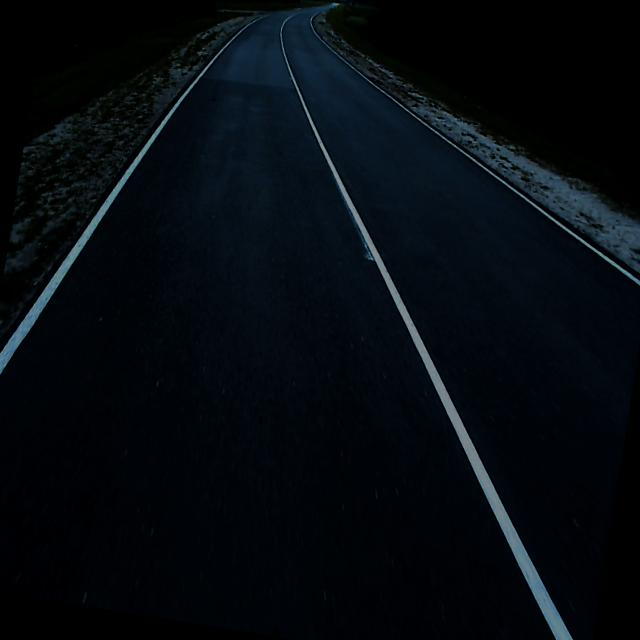road: (0, 3, 640, 640)
